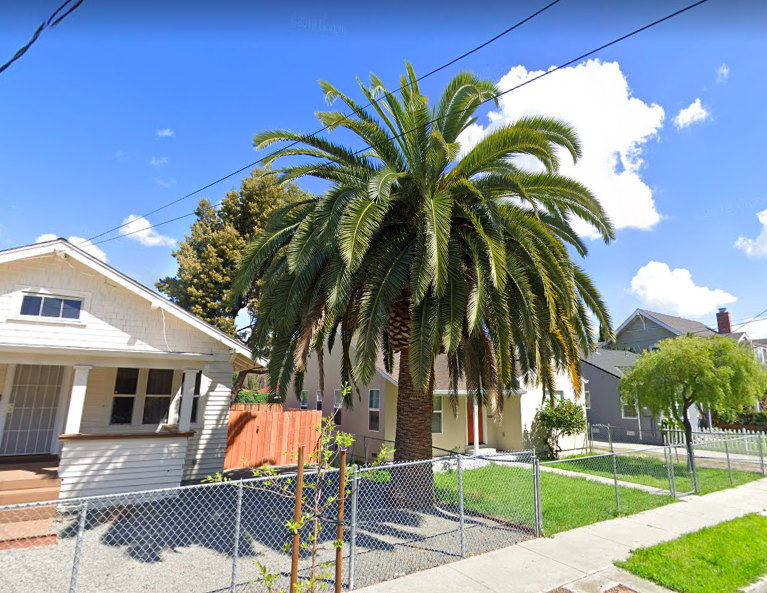tree: (228, 57, 617, 508)
